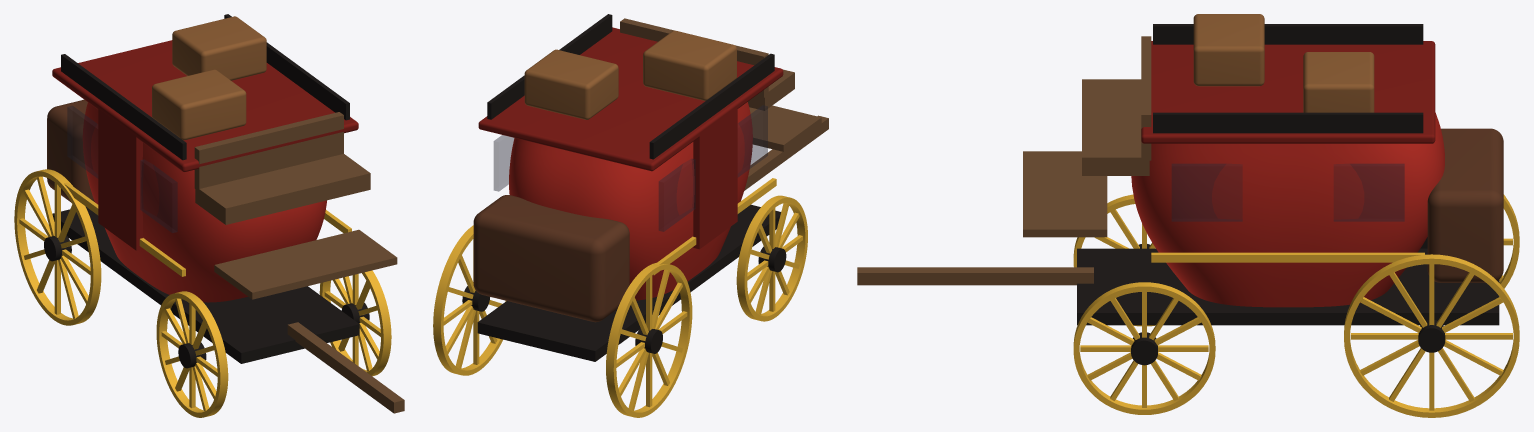
The model's file is stagecoach.glb.
The picture shows the model from 3 angles, left to right: view 1: azimuth 30°, elevation 25°; view 2: azimuth 150°, elevation 25°; view 3: azimuth 270°, elevation 25°; orthographic projection. The views are drawn at different scales.
Visible parts, largest first — view 1: Body, Roof, Chassis, DriverSeat, Footboard, SeatBack, Trunk_0, Door, Trunk_1, Rim_RL, Boot, Rim_FL (+13 smaller); view 2: Body, Boot, Roof, Chassis, Door, Trunk_1, Trunk_0, Rim_RL, Rim_FL, Rail_-1, Footboard, Rim_RR (+13 smaller); view 3: Body, Roof, Chassis, Boot, Footboard, DriverSeat, Rail_1, Trunk_0, Rim_RR, Pole, Trunk_1, Rail_-1 (+8 smaller).
Part boxes in pixels (<box>): Body: <box>82,102,326,302</box>; Roof: <box>52,40,358,171</box>; Chassis: <box>52,207,359,363</box>; DriverSeat: <box>195,154,370,224</box>; Footboard: <box>214,229,397,299</box>; SeatBack: <box>194,112,343,191</box>; Trunk_0: <box>152,69,246,140</box>; Door: <box>98,109,142,250</box>; Trunk_1: <box>172,16,266,80</box>; Rim_RL: <box>14,169,101,325</box>; Boot: <box>47,99,94,202</box>; Rim_FL: <box>156,291,228,417</box>; Body: <box>509,102,752,300</box>; Boot: <box>473,195,629,322</box>; Roof: <box>478,27,783,171</box>; Chassis: <box>477,204,780,361</box>; Door: <box>693,105,737,249</box>; Trunk_1: <box>524,49,618,119</box>; Trunk_0: <box>643,30,736,100</box>; Rim_RL: <box>606,263,692,417</box>; Rim_FL: <box>736,195,807,321</box>; Rail_-1: <box>649,53,774,159</box>; Footboard: <box>749,105,821,151</box>; Rim_RR: <box>433,225,506,375</box>; Body: <box>1131,112,1444,307</box>; Roof: <box>1141,41,1435,143</box>; Chassis: <box>1077,248,1499,325</box>; Boot: <box>1427,128,1503,282</box>; Footboard: <box>1023,151,1107,237</box>; DriverSeat: <box>1082,79,1149,175</box>; Rail_1: <box>1153,112,1423,133</box>; Trunk_0: <box>1193,14,1264,86</box>; Rim_RR: <box>1344,254,1519,417</box>; Pole: <box>857,267,1093,285</box>; Trunk_1: <box>1303,52,1374,112</box>; Rail_-1: <box>1153,24,1423,44</box>.
Bounding box in the file's own units: 1.44 × 2.08 × 3.92.
